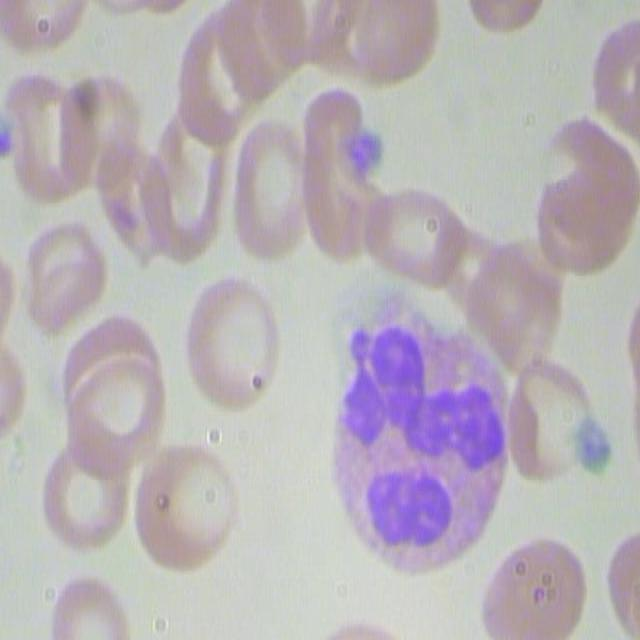RBC: (186, 274, 289, 414), (65, 330, 168, 470), (138, 440, 236, 570), (480, 525, 589, 639), (1, 64, 92, 198), (23, 207, 113, 337), (42, 422, 132, 552), (364, 175, 465, 282), (231, 118, 309, 256)
WBC: (326, 286, 521, 580)
